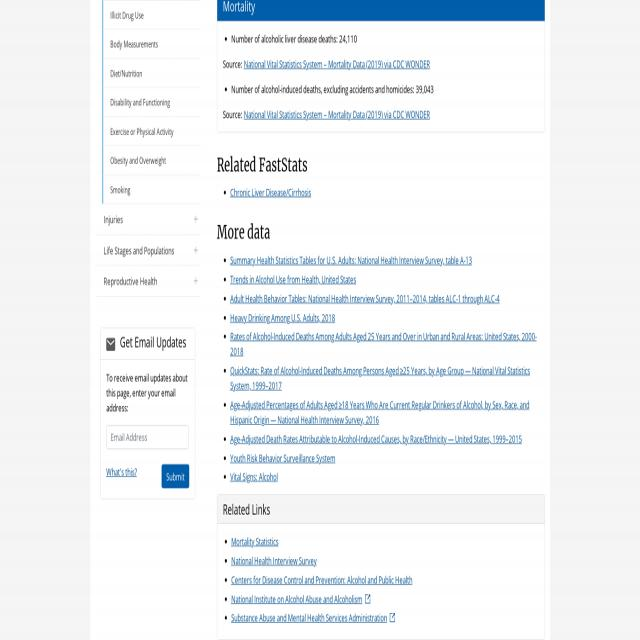button: (95, 204, 200, 235), (95, 235, 200, 266), (95, 266, 200, 297), (102, 175, 200, 205), (102, 29, 200, 59), (102, 88, 200, 117), (102, 117, 200, 146), (102, 1, 200, 30), (102, 146, 200, 175), (102, 59, 200, 88), (162, 464, 189, 489)
field: (106, 425, 189, 449)
